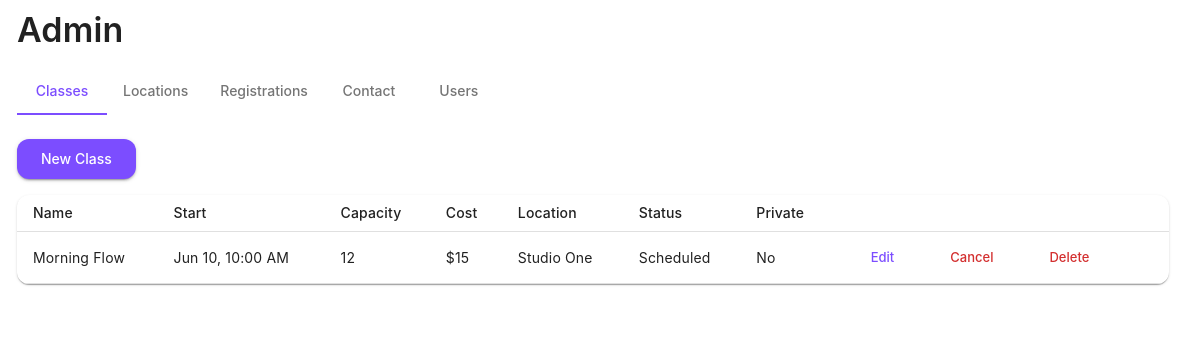
Test case: AdminDashboard › marks contact submissions read and reports the result
Click the tab "Contact": (369, 91) [324,67,414,115]
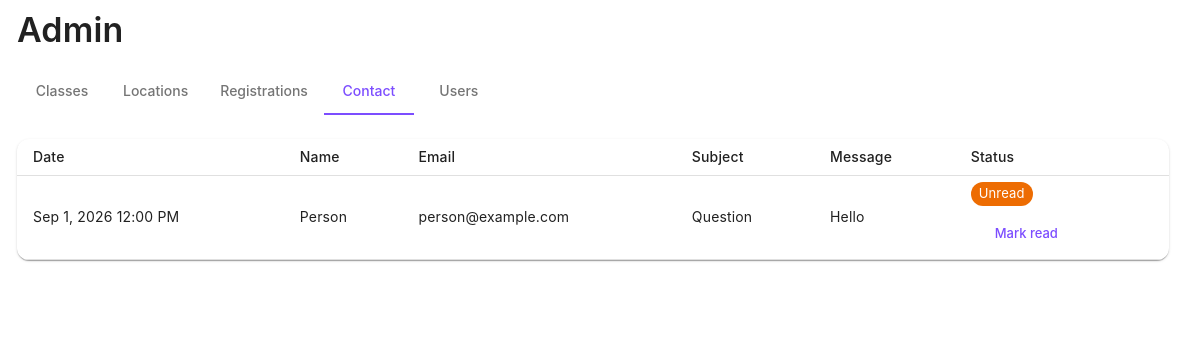
Click the button "Mark read": (1026, 233) [971,214,1082,253]
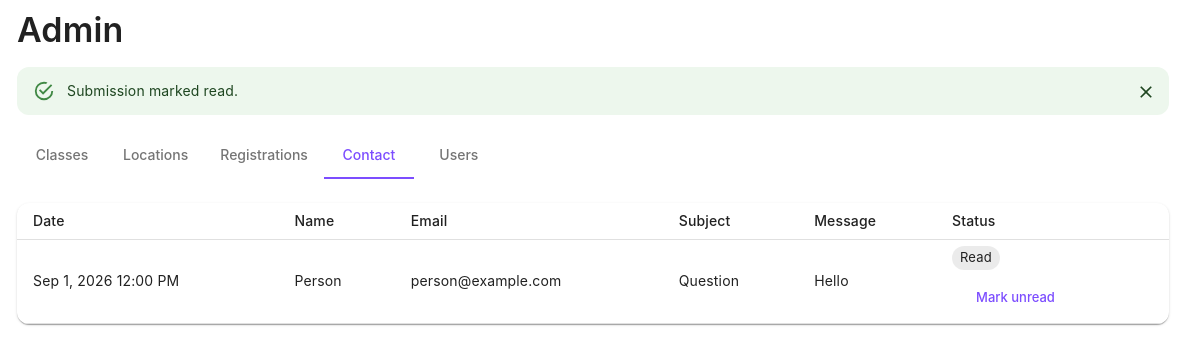
Result: the text "Read" is shown at [960,249,992,265]
Result: the text "Submission marked read." is shown at [67,82,238,99]
